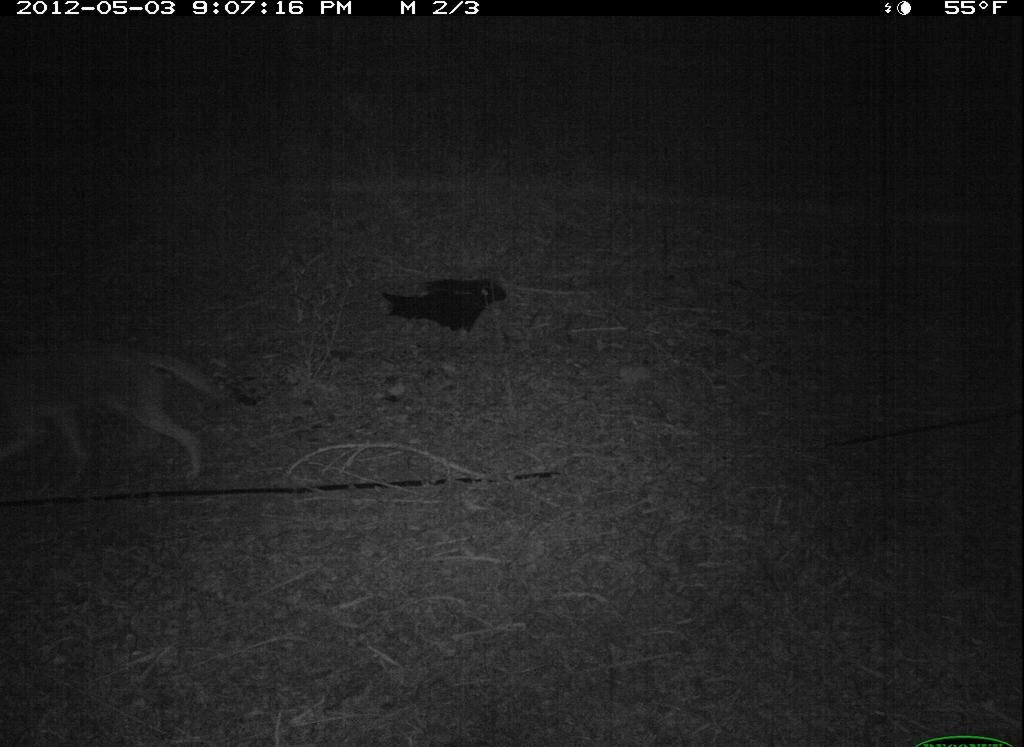coyote: (7, 322, 269, 509)
